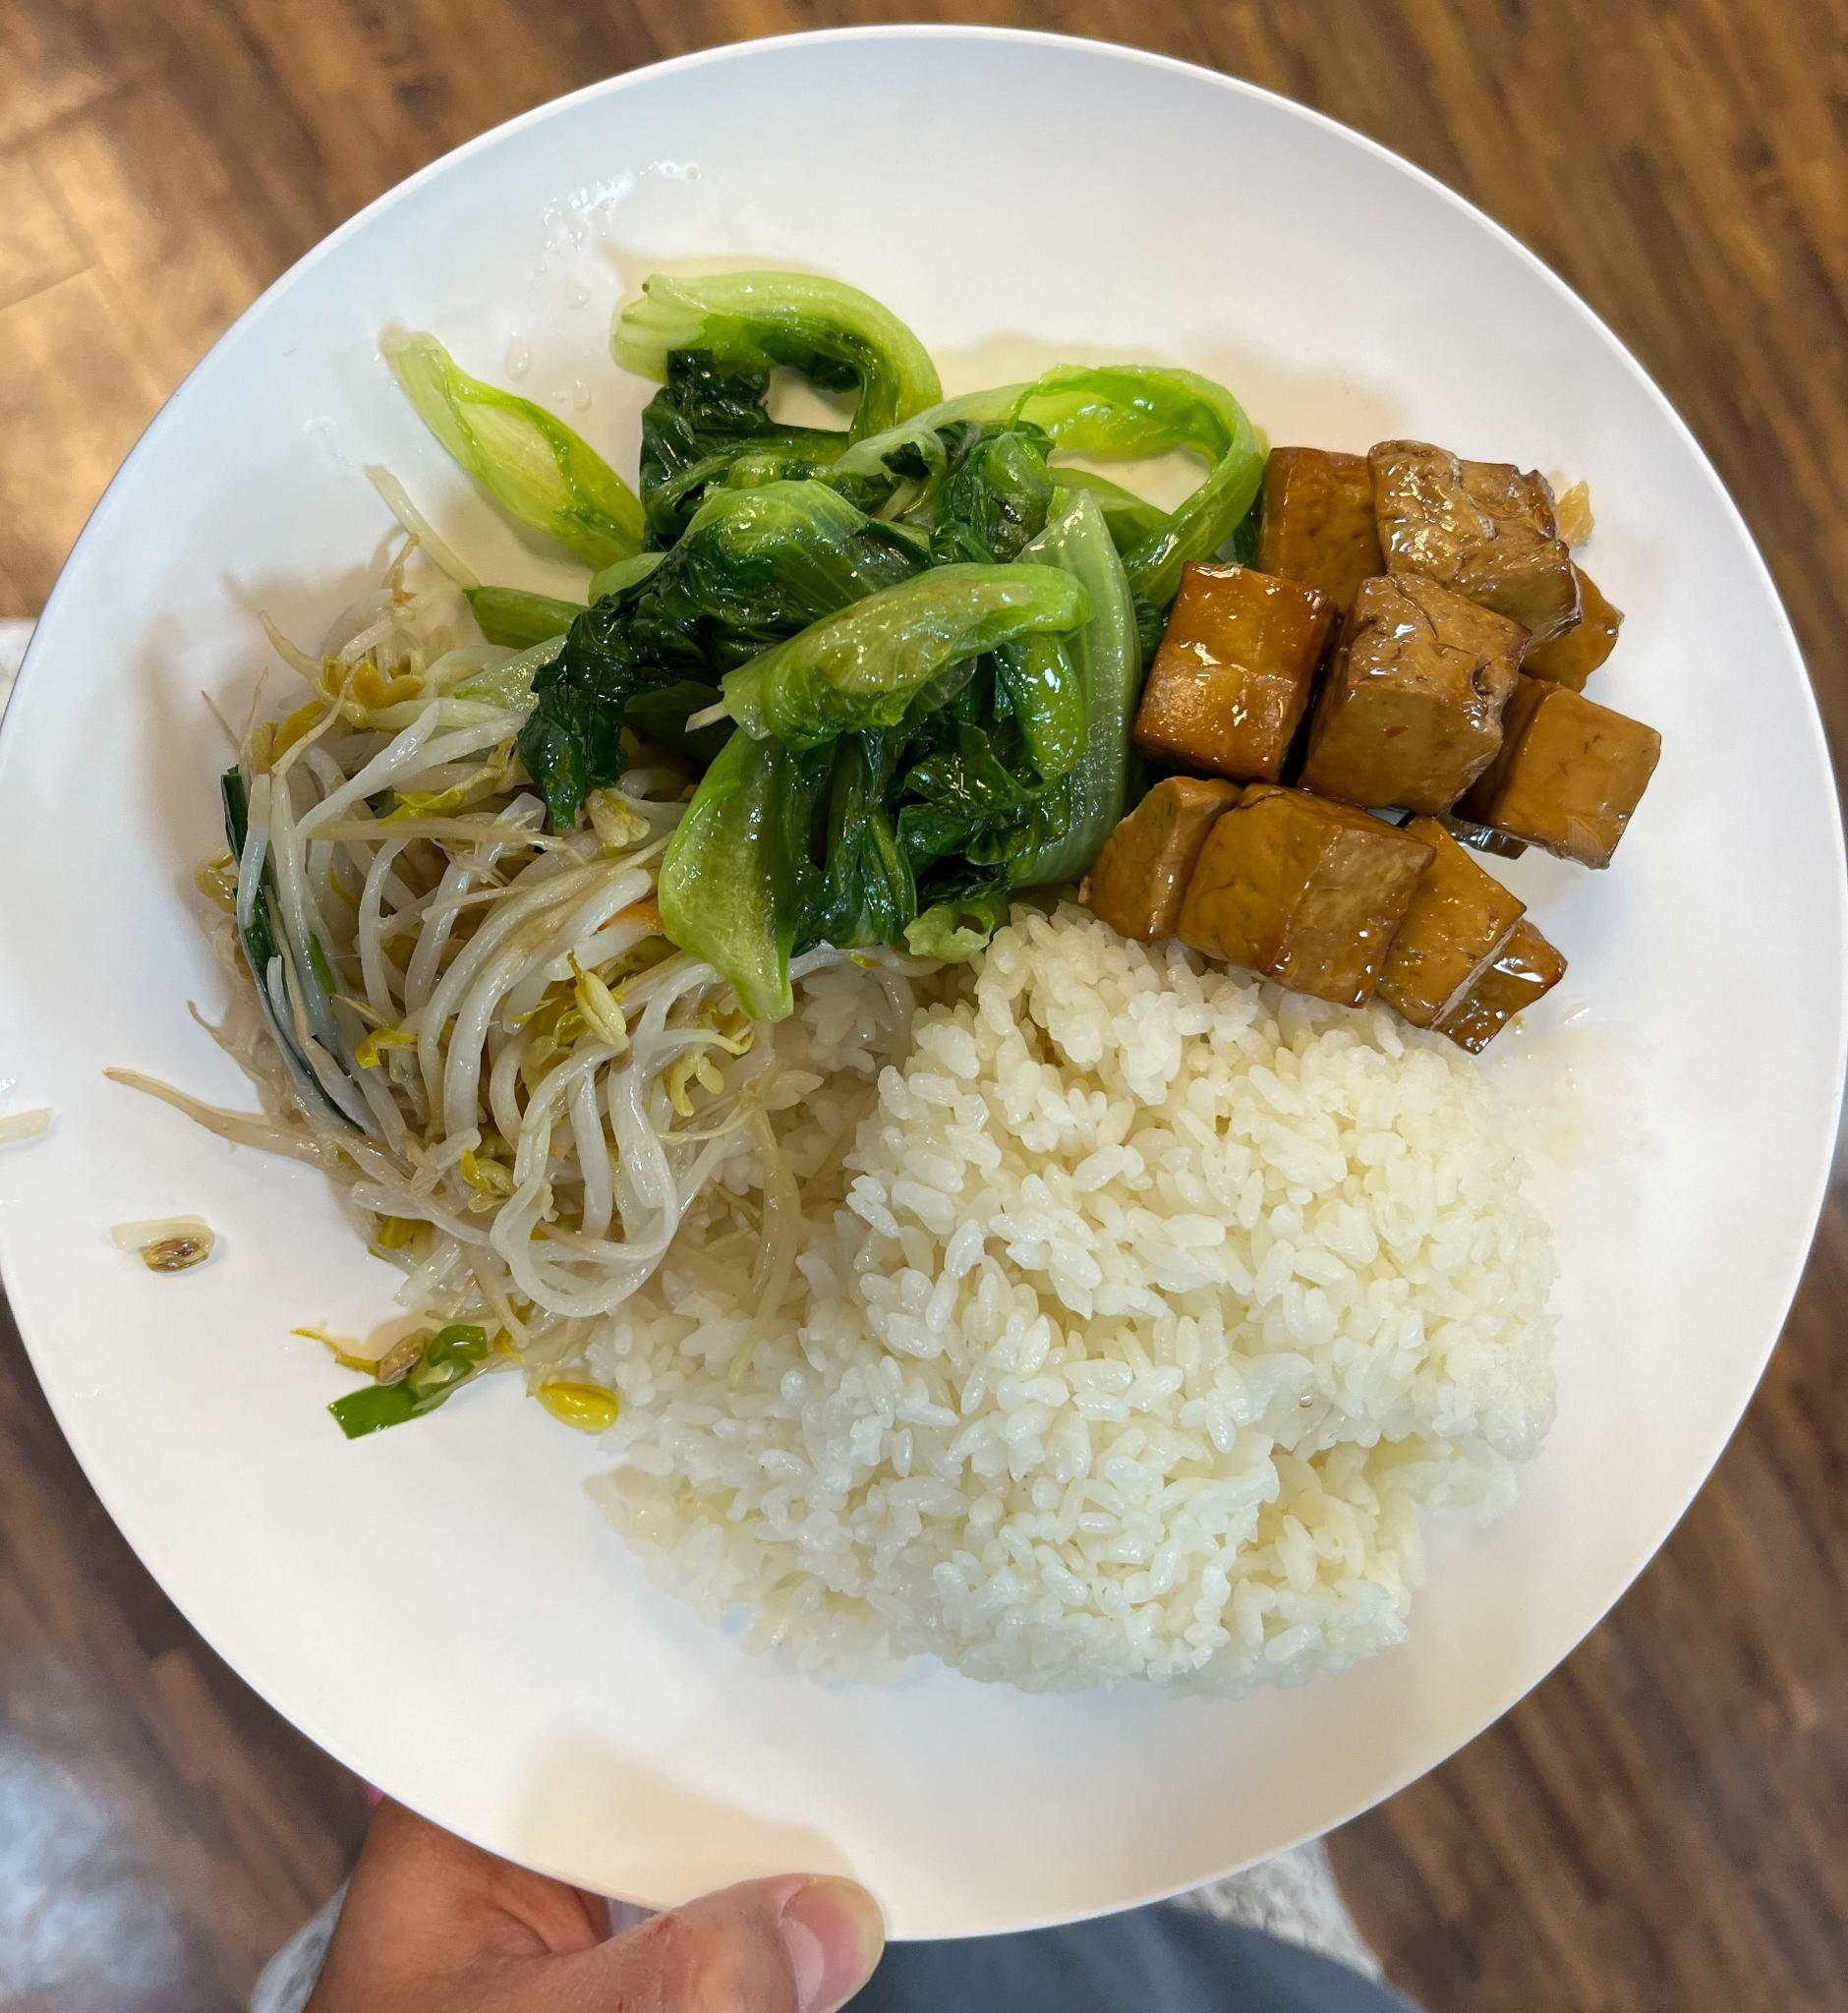big fried chicken leg: (14, 14, 1843, 1929)
big herbal chicken leg: (643, 908, 1581, 1722)
braised fish fillet: (400, 258, 1261, 936), (184, 570, 903, 1294), (1084, 419, 1680, 1057)
